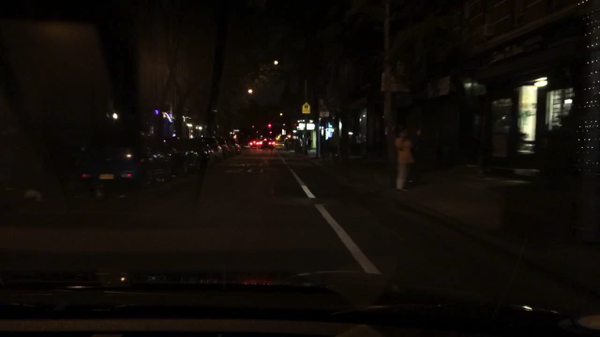car: (76, 131, 172, 189), (164, 136, 200, 178), (191, 138, 214, 169), (206, 139, 223, 160), (224, 137, 235, 159), (216, 136, 228, 155), (260, 139, 274, 148), (233, 140, 242, 153), (249, 139, 258, 148)
person: (393, 128, 412, 193), (412, 126, 424, 187), (305, 137, 312, 154)
traffic light: (268, 123, 271, 129)
traffic sign: (319, 105, 329, 117), (301, 103, 310, 114)
